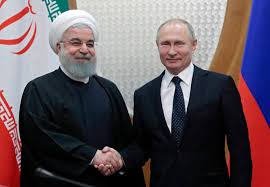middle_eastern_male: (56, 18, 99, 73)
